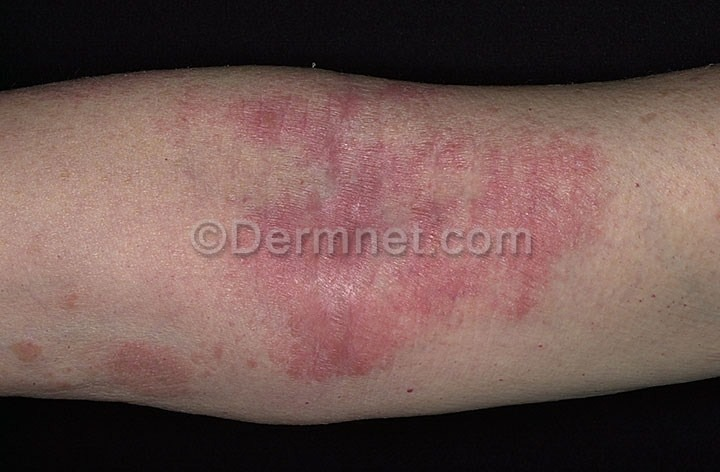Eczema: (215, 86, 612, 388), (54, 76, 194, 143), (91, 330, 211, 402), (3, 329, 77, 396), (52, 277, 94, 317)
